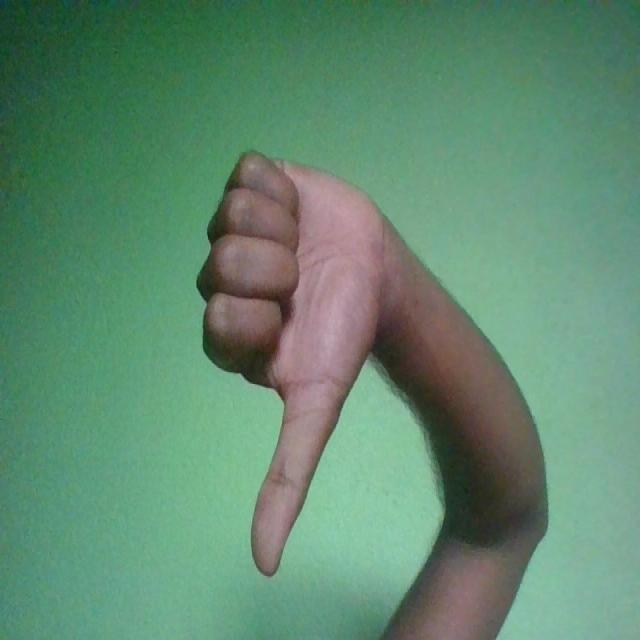Dislike: (198, 150, 396, 576)
